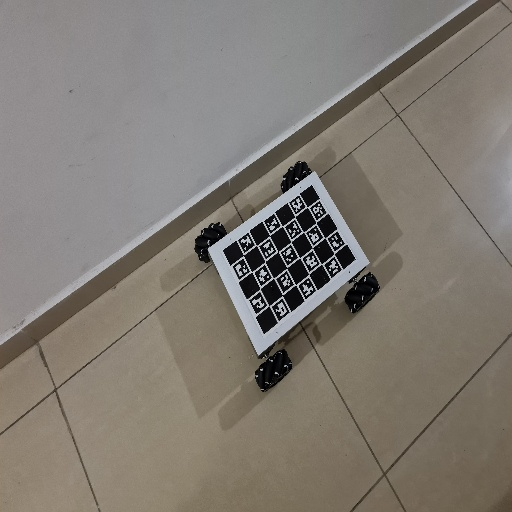Omniwheel: (192, 160, 381, 395)
